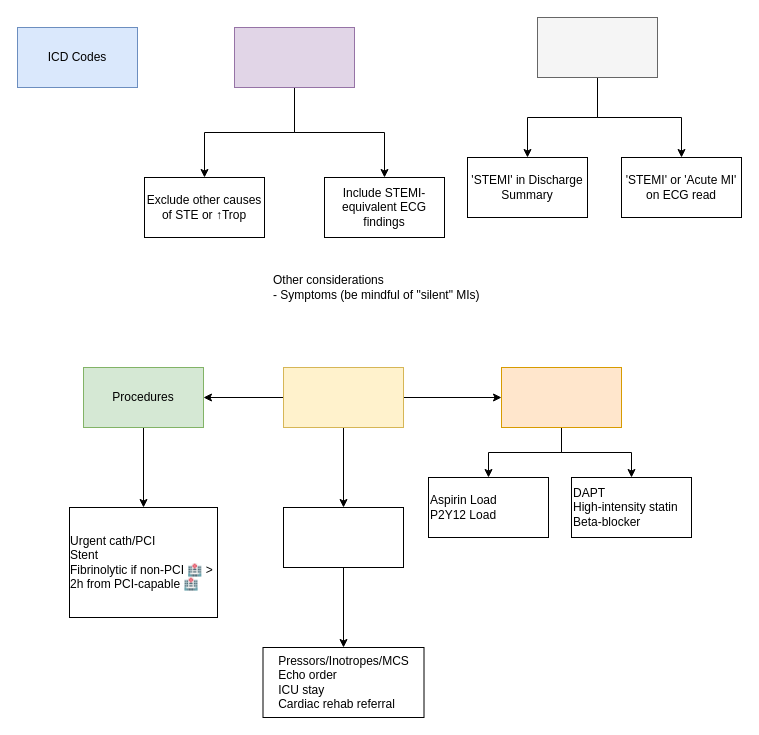
The diagram is 759 pixels wide and 735 high, and some of its shapes have lost their labels. Here are the shapes that lost their labels. From the top down, the box of each, then its label:
(234, 26, 354, 88): STE on ECG + ↑Troponin
(536, 16, 658, 78): Keyword Matching
(282, 366, 404, 428): Management
(500, 366, 622, 428): Meds
(282, 506, 404, 568): Others
